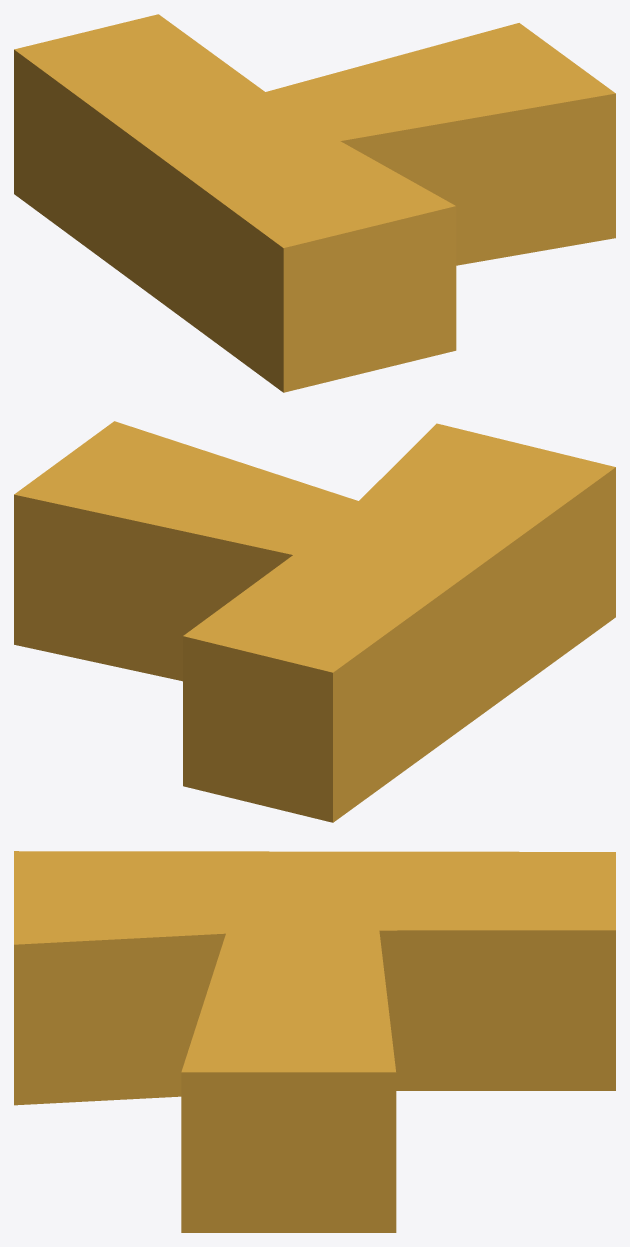
File: maize_t.fbx
The picture shows the model from 3 angles, top to bottom: view 1: azimuth 30°, elevation 25°; view 2: azimuth 150°, elevation 25°; view 3: azimuth 270°, elevation 25°; orthographic projection. The views are drawn at different scales.
Visible parts, largest first — view 1: Plane; view 2: Plane; view 3: Plane.
Part boxes in pixels (left/top/right/bottom): Plane: left=14, top=14, right=615, bottom=392; Plane: left=14, top=421, right=615, bottom=822; Plane: left=14, top=851, right=615, bottom=1232.
Bounding box in the file's own units: 469 × 159 × 540.
